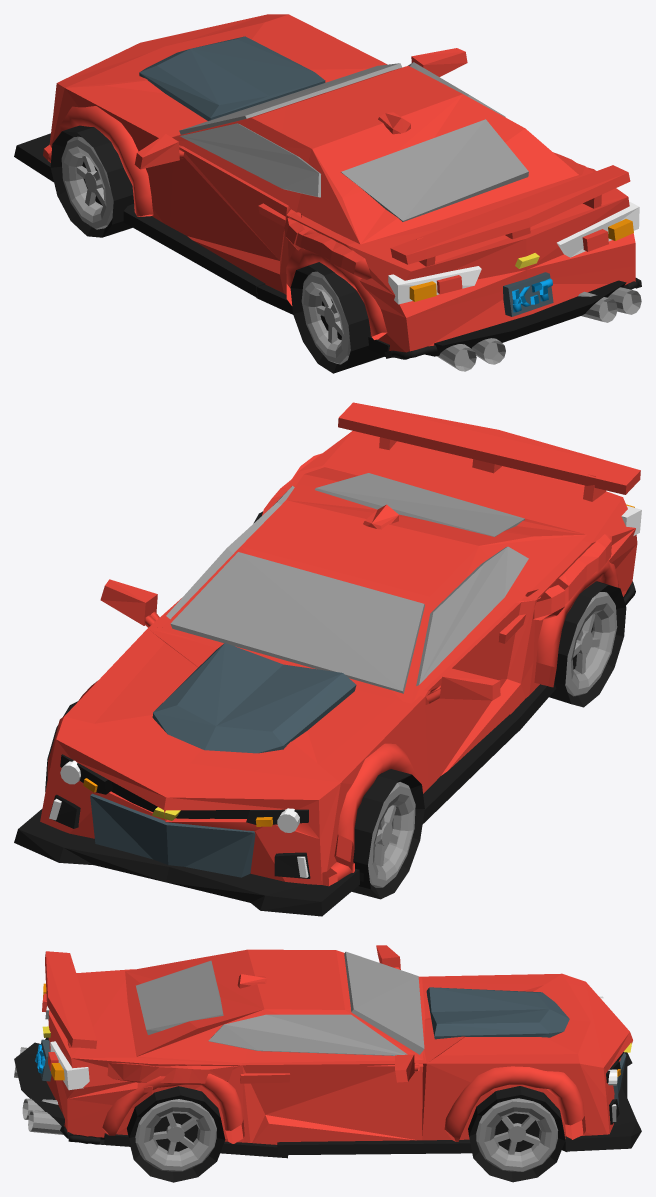
File: car.dae
3 views of the same model, one above another, from view 1: azimuth 30°, elevation 25°; view 2: azimuth 150°, elevation 25°; view 3: azimuth 270°, elevation 25° (orthographic). The views are drawn at different scales.
Visible parts, largest first — view 1: car; view 2: car; view 3: car.
Boxes of the visible parts, left/top/right/bottom form: car: left=14, top=14, right=641, bottom=373; car: left=14, top=402, right=641, bottom=916; car: left=14, top=945, right=641, bottom=1182.
Bounding box in the file's own units: 0.2057 × 0.1114 × 0.3881.
